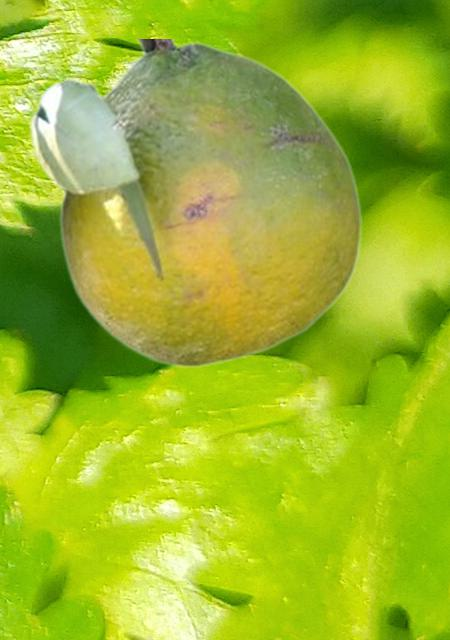dalandan: (27, 39, 362, 367)
